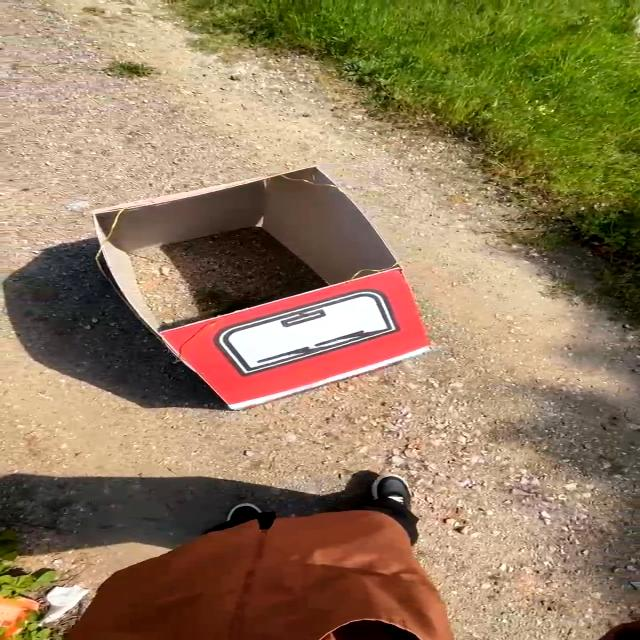red_car: (37, 164, 487, 420)
